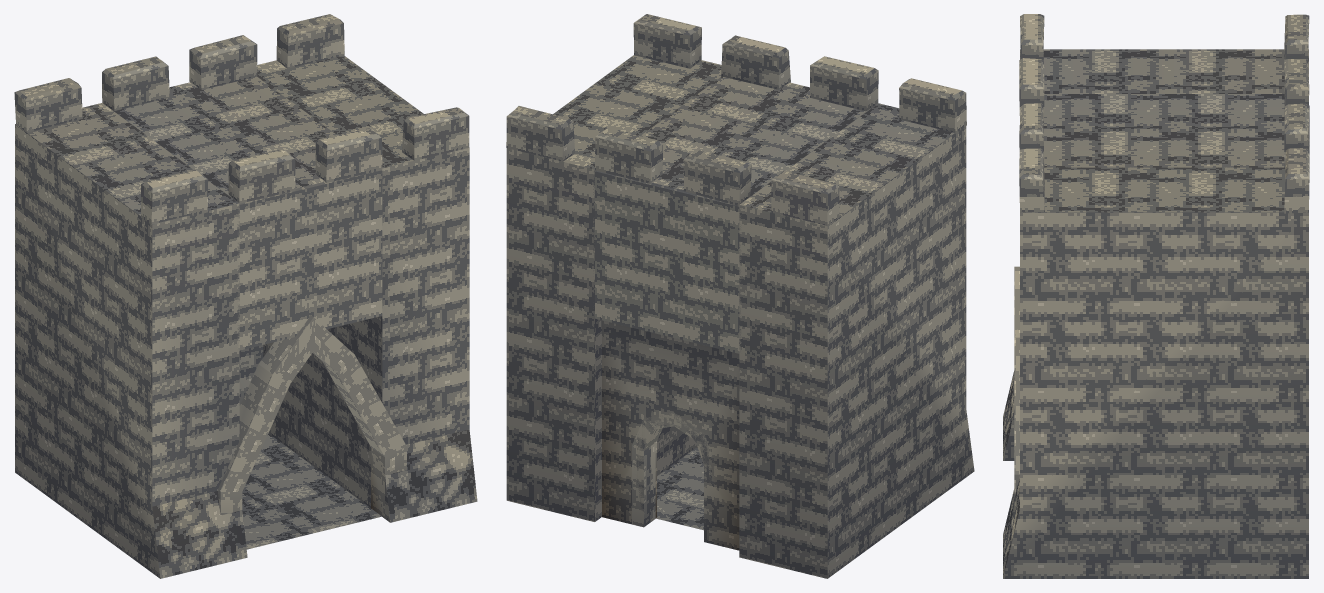
The model's file is cst.gatehouse__crenellated.glb.
The picture shows the model from 3 angles, left to right: view 1: azimuth 30°, elevation 25°; view 2: azimuth 150°, elevation 25°; view 3: azimuth 270°, elevation 25°; orthographic projection. The views are drawn at different scales.
Visible parts, largest first — view 1: kit_block, kit_top, kit_detail, kit_shell_passage_floor; view 2: kit_block, kit_top, kit_shell_passage_floor, kit_detail; view 3: kit_block, kit_top, kit_detail.
Boxes of the visible parts, x1,y1,x2,y2 form: kit_block: [15, 55, 477, 578]; kit_top: [14, 14, 469, 224]; kit_detail: [217, 315, 406, 518]; kit_shell_passage_floor: [242, 433, 381, 549]; kit_block: [506, 55, 974, 578]; kit_top: [506, 14, 966, 225]; kit_shell_passage_floor: [656, 447, 703, 530]; kit_detail: [632, 413, 715, 541]; kit_block: [1003, 49, 1308, 578]; kit_top: [1019, 14, 1309, 213]; kit_detail: [1014, 266, 1019, 497].
Bounding box in the file's own units: 8.04 × 9.25 × 6.37.
5 materials, 5 textured.
